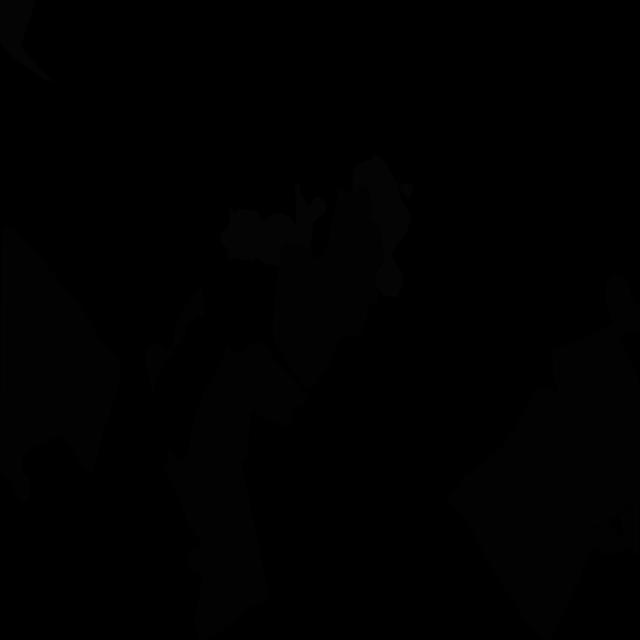cardboard: (160, 340, 309, 640), (446, 387, 593, 640), (0, 227, 122, 501), (272, 185, 384, 390), (552, 322, 640, 528), (563, 452, 639, 556), (145, 284, 204, 397), (605, 273, 640, 338)
soft_plastic: (352, 154, 414, 298), (220, 183, 326, 267)
